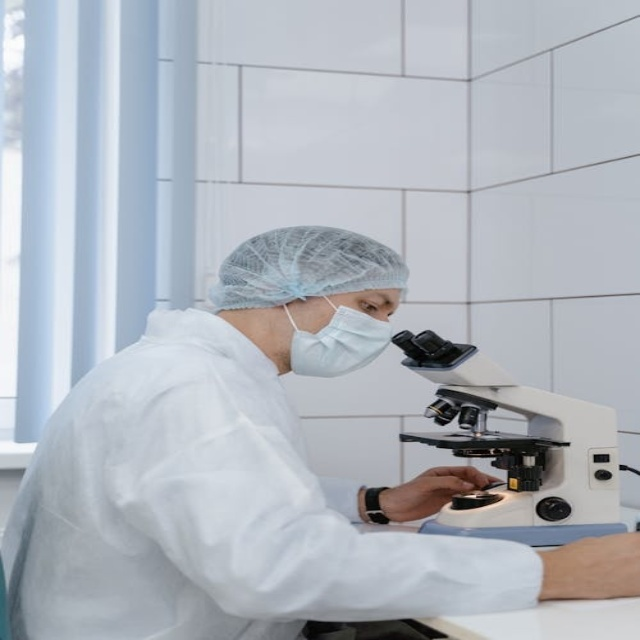Mascara: (286, 295, 395, 378)
Sin_gafas: (352, 291, 398, 320)
Sin_guantes: (367, 466, 502, 525)
